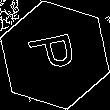P_E: (26, 31, 84, 79)
